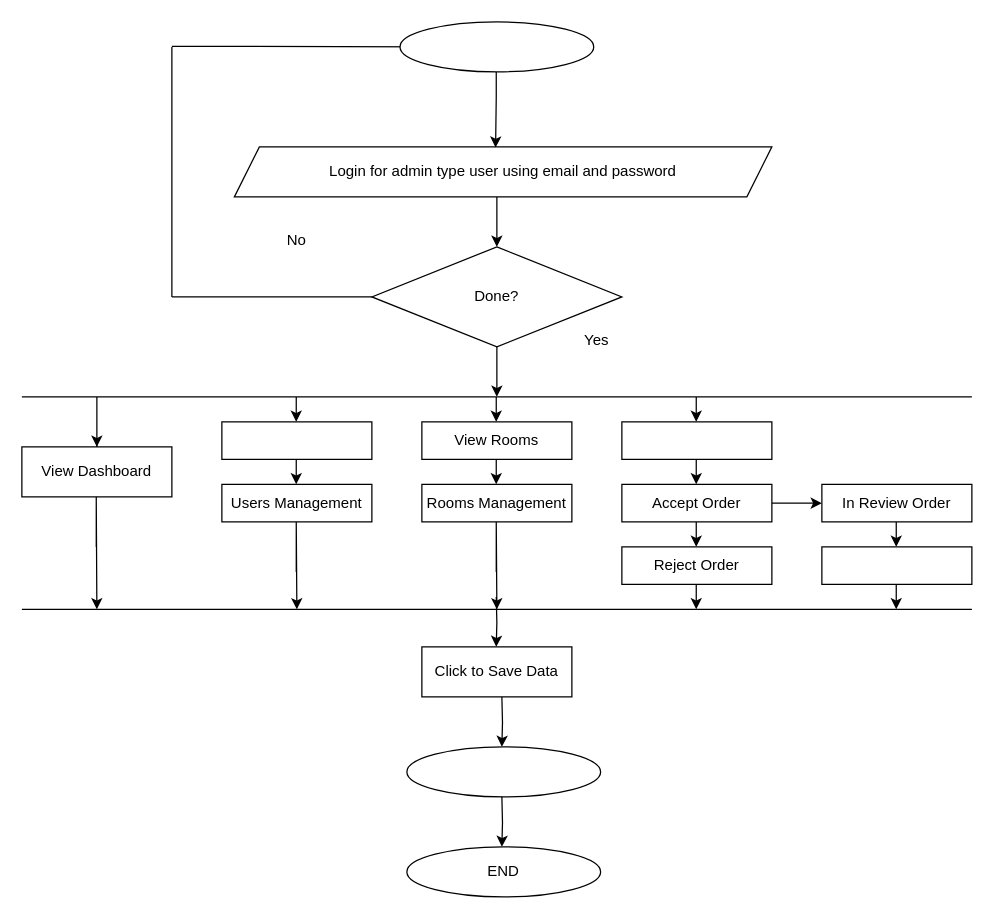
This 995x919 diagram has some shape labels left out. Each missing label, with the box of its shape:
Complete Order: (821, 546, 972, 584)
Logout: (406, 746, 601, 797)
START: (399, 21, 594, 72)
View Orders: (621, 421, 772, 459)
View Users: (221, 421, 372, 459)
